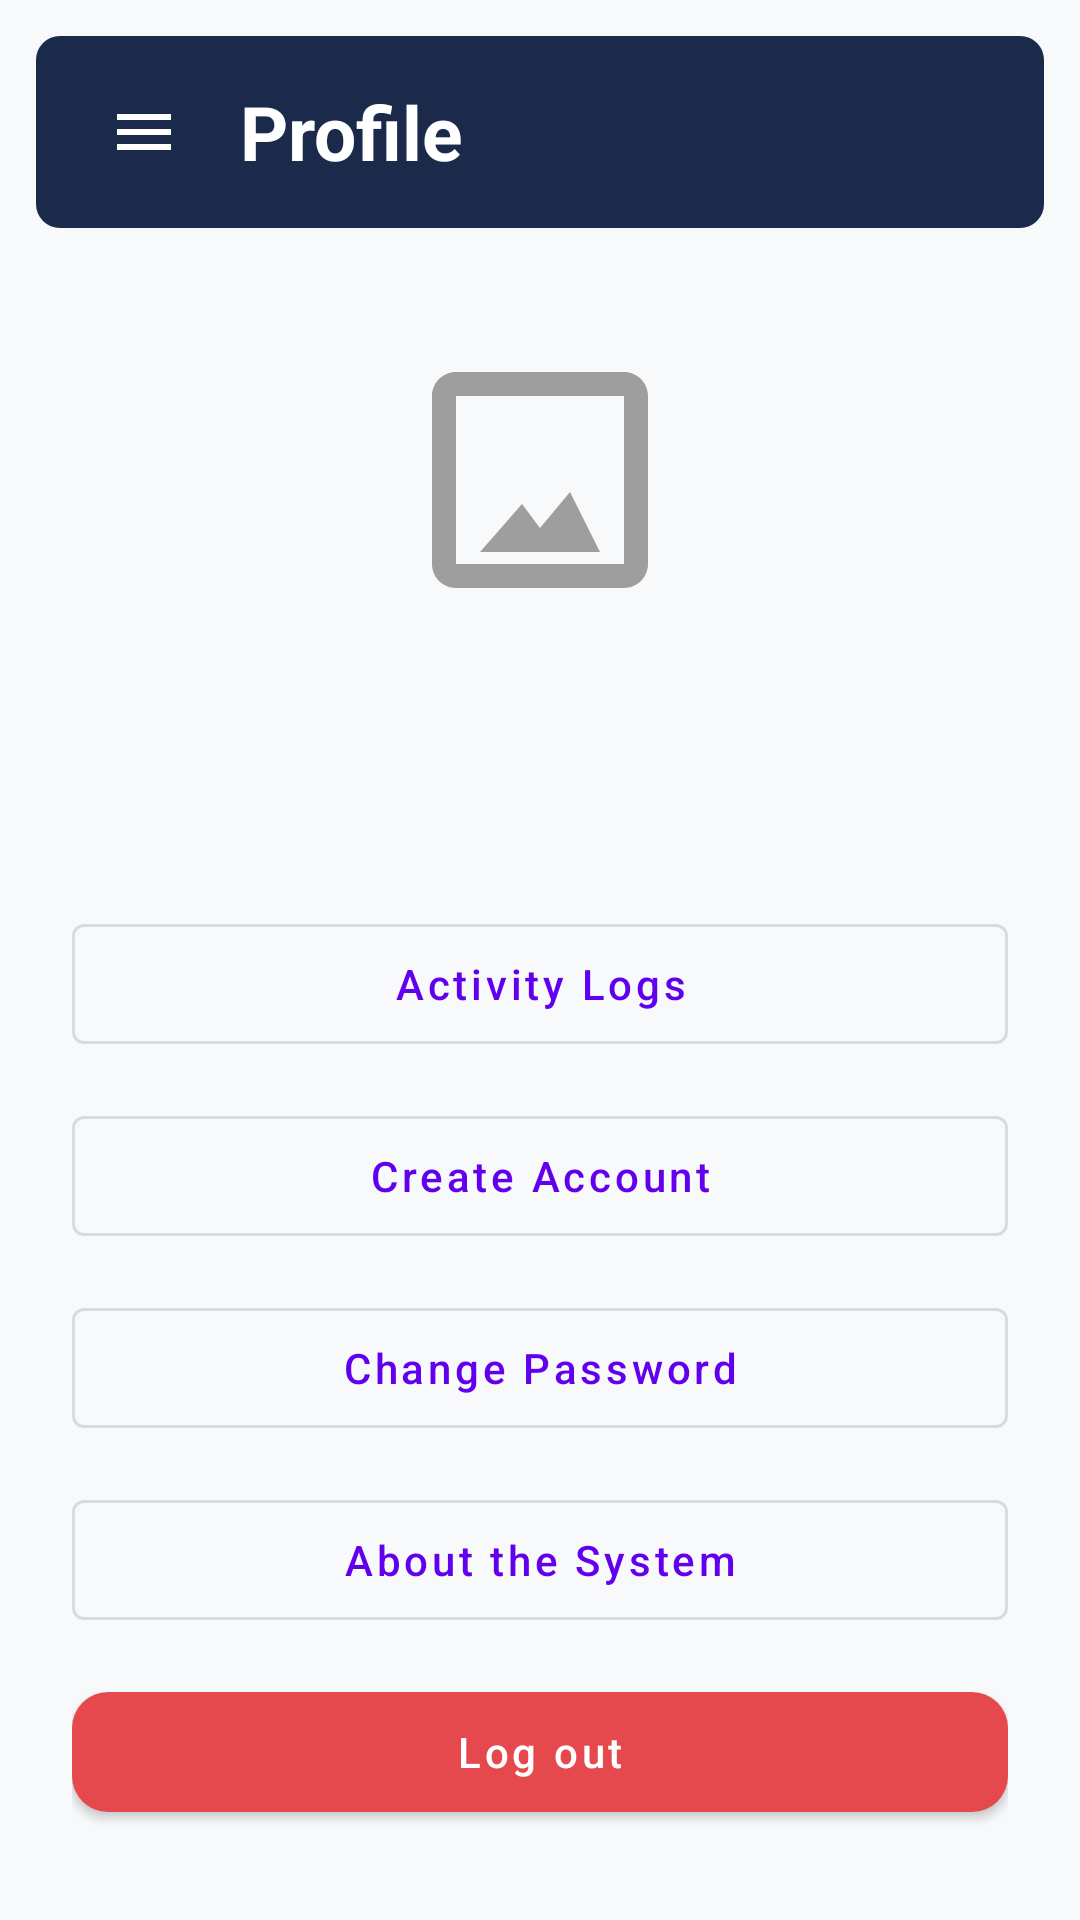

Where icons sit on this 1080px×1920px app screen, as (x1, y1, x2, y2):
Menu: (117, 114, 171, 150)
